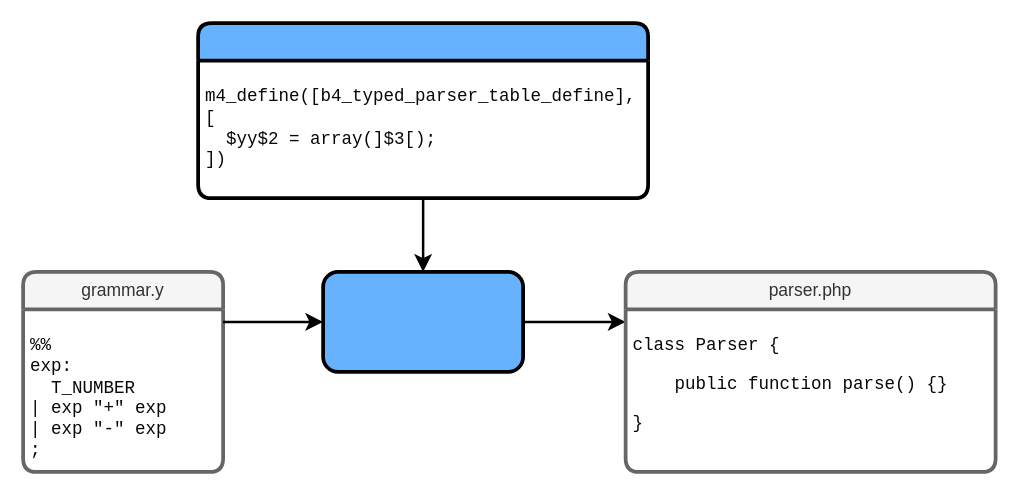
The diagram is 1019 pixels wide and 501 high, and some of its shapes have lost their labels. Each missing label, with the box of its shape:
Parser generator: (321, 269, 524, 373)
skeleton.m4: (196, 21, 649, 199)
